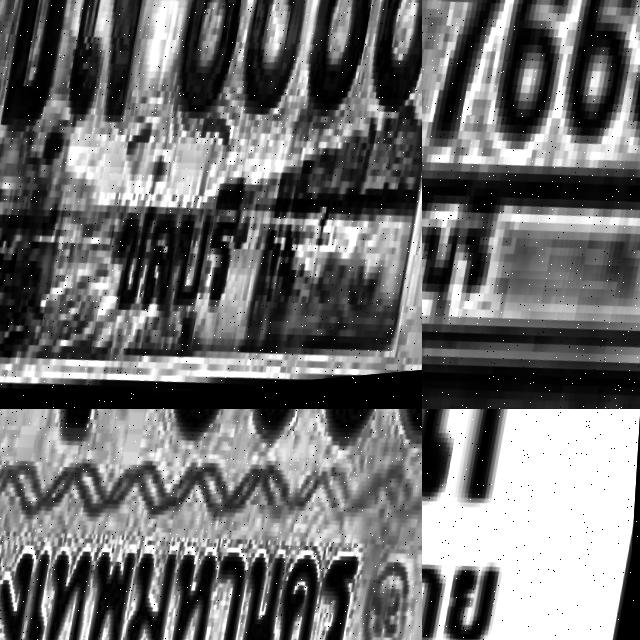license-plate: (0, 0, 422, 409), (0, 409, 422, 640), (422, 0, 640, 409), (422, 409, 640, 640)
